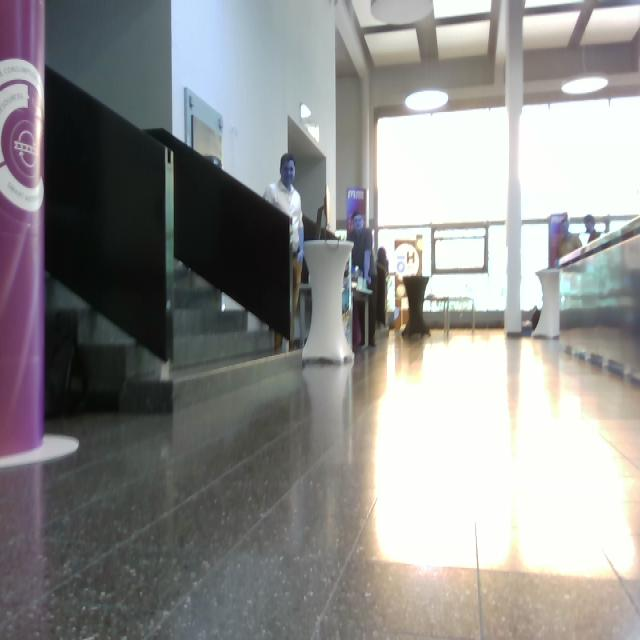light bulb: (561, 46, 609, 96), (370, 1, 434, 26), (561, 73, 609, 96), (405, 89, 449, 113)
person: (263, 153, 305, 353), (347, 210, 377, 349)
pillar: (504, 1, 525, 336)
tiled floor: (2, 321, 639, 638)
